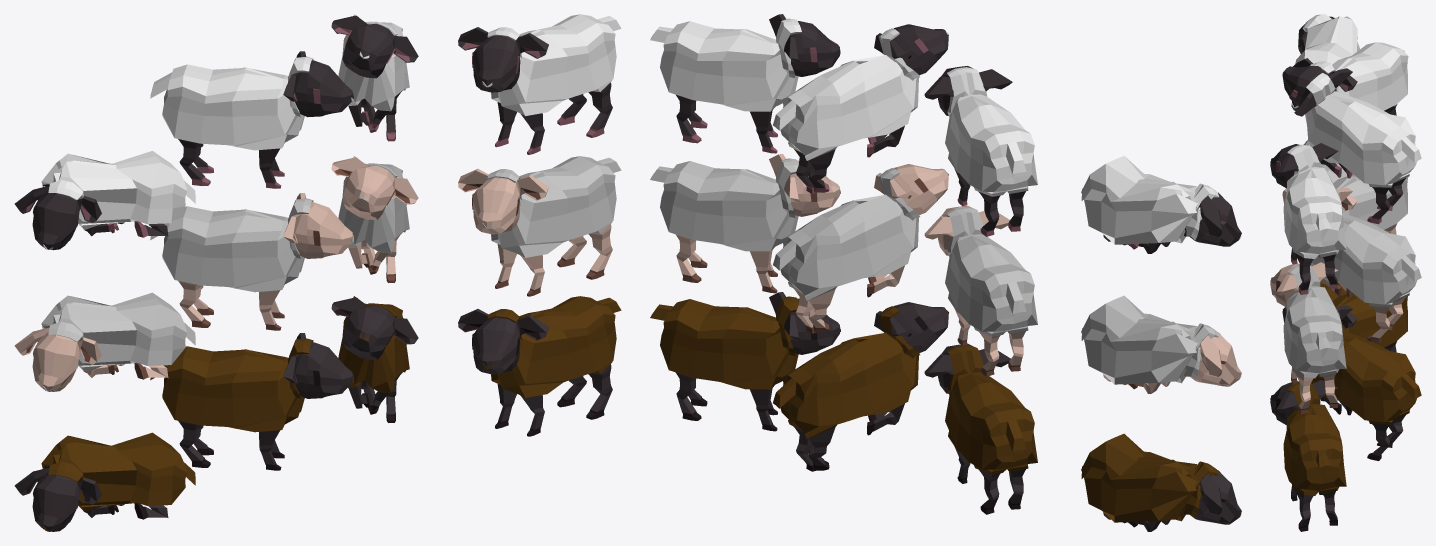
Rendered from Sheep_by_Hatty.fbx.
3 views of the same model, side by side, from view 1: azimuth 30°, elevation 25°; view 2: azimuth 150°, elevation 25°; view 3: azimuth 270°, elevation 25° (orthographic). The views are drawn at different scales.
Visible parts, largest first — view 1: Sheep_1_Stand.001, Sheep_1_Stand, Sheep_1_Stand.002, Sheep_1_Look.001, Sheep_1_Look, Sheep_1_Look.002, Sheep_1_Sleep, Sheep_1_Sleep.002, Sheep_1_Sleep.001, Sheep_1_Jump.001, Sheep_1_Jump, Sheep_1_Jump.002; view 2: Sheep_1_Jump.001, Sheep_1_Jump.002, Sheep_1_Jump, Sheep_1_Look.001, Sheep_1_Look, Sheep_1_Look.002, Sheep_1_Stand.001, Sheep_1_Stand, Sheep_1_Stand.002, Sheep_1_Sleep, Sheep_1_Sleep.002, Sheep_1_Sleep.001; view 3: Sheep_1_Jump.001, Sheep_1_Look.001, Sheep_1_Jump, Sheep_1_Look, Sheep_1_Look.002, Sheep_1_Jump.002, Sheep_1_Stand.001, Sheep_1_Sleep.001, Sheep_1_Stand, Sheep_1_Stand.002, Sheep_1_Sleep.
Part boxes in pixels (<box>): Sheep_1_Stand.001: <box>150,51,354,188</box>; Sheep_1_Stand: <box>150,193,354,330</box>; Sheep_1_Stand.002: <box>150,333,354,470</box>; Sheep_1_Look.001: <box>458,14,621,154</box>; Sheep_1_Look: <box>458,156,621,296</box>; Sheep_1_Look.002: <box>458,296,621,436</box>; Sheep_1_Sleep: <box>14,292,195,391</box>; Sheep_1_Sleep.002: <box>14,432,195,531</box>; Sheep_1_Sleep.001: <box>14,151,195,250</box>; Sheep_1_Jump.001: <box>331,14,418,141</box>; Sheep_1_Jump: <box>331,156,418,282</box>; Sheep_1_Jump.002: <box>331,296,418,422</box>; Sheep_1_Jump.001: <box>773,24,948,193</box>; Sheep_1_Jump.002: <box>773,302,948,471</box>; Sheep_1_Jump: <box>773,164,948,333</box>; Sheep_1_Look.001: <box>650,14,840,153</box>; Sheep_1_Look: <box>650,154,840,293</box>; Sheep_1_Look.002: <box>650,292,840,431</box>; Sheep_1_Stand.001: <box>924,66,1037,236</box>; Sheep_1_Stand: <box>924,205,1037,376</box>; Sheep_1_Stand.002: <box>924,343,1037,514</box>; Sheep_1_Sleep: <box>1081,295,1241,393</box>; Sheep_1_Sleep.002: <box>1081,433,1241,531</box>; Sheep_1_Sleep.001: <box>1081,156,1241,253</box>; Sheep_1_Jump.001: <box>1282,66,1421,224</box>; Sheep_1_Look.001: <box>1270,143,1346,294</box>; Sheep_1_Jump: <box>1282,187,1421,343</box>; Sheep_1_Look: <box>1270,262,1346,414</box>; Sheep_1_Look.002: <box>1270,380,1346,531</box>; Sheep_1_Jump.002: <box>1282,305,1421,460</box>; Sheep_1_Stand.001: <box>1291,42,1408,115</box>; Sheep_1_Sleep.001: <box>1295,14,1359,64</box>; Sheep_1_Stand: <box>1333,174,1408,234</box>; Sheep_1_Stand.002: <box>1332,293,1407,352</box>; Sheep_1_Sleep: <box>1303,140,1352,182</box>.
Size of the model in its own units: 1260 by 898 by 333.
